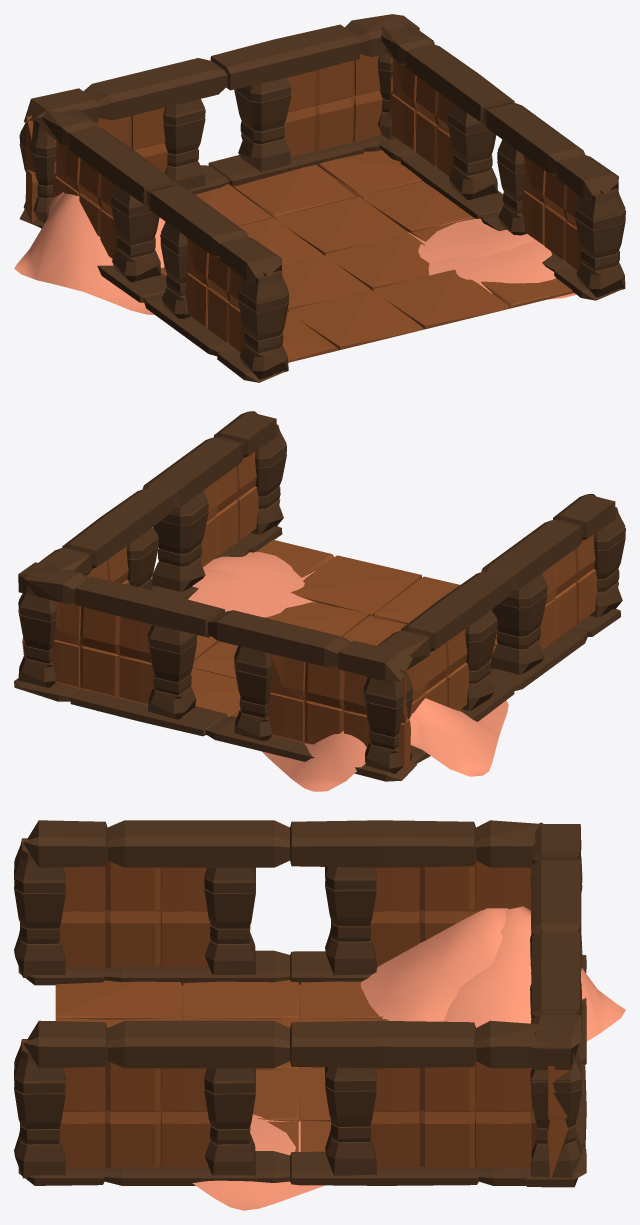
The model's file is AllRooms.fbx.
3 renders of one model, top to bottom at view 1: azimuth 30°, elevation 25°; view 2: azimuth 150°, elevation 25°; view 3: azimuth 270°, elevation 25°, orthographic. The views are drawn at different scales.
Parts seen in each view (by area): view 1: floor.001, TopStone.005, TopStone.001, TopStone.006, WallMain.005, Plane.003, WallMain.002, Pillar.001, Pillar.004, WallMain.001, WallMain.006, Pillar.024 (+14 smaller); view 2: floor.001, TopStone.005, TopStone.006, TopStone.001, WallMain.005, WallMain.004, wall.005, Plane.003, WallMain.001, WallMain.006, Pillar.029, Pillar.003 (+15 smaller); view 3: TopStone.001, TopStone.006, floor.001, WallMain.002, WallMain.001, WallMain.006, TopStone.005, WallMain.007, wall.001, Plane.003, Sand.003, wall.006 (+10 smaller).
Boxes of the visible parts, x1,y1,x2,y2 form: floor.001: (161,150,573,362); TopStone.005: (24,14,419,131); TopStone.001: (381,22,618,200); TopStone.006: (40,108,281,282); WallMain.005: (284,54,382,156); Plane.003: (14,193,165,314); WallMain.002: (388,56,454,176); Pillar.001: (238,270,288,379); Pillar.004: (575,188,625,297); WallMain.001: (522,155,612,292); WallMain.006: (185,237,275,374); Pillar.024: (234,78,291,172); floor.001: (191,539,497,716); TopStone.005: (18,562,412,681); TopStone.006: (377,494,615,669); TopStone.001: (31,411,276,575); WallMain.005: (22,593,154,705); WallMain.004: (268,653,410,769); wall.005: (14,678,416,781); Plane.003: (410,698,508,776); WallMain.001: (201,452,258,566); WallMain.006: (540,534,597,649); Pillar.029: (491,573,547,674); Pillar.003: (152,491,208,591); TopStone.001: (23,1020,551,1068); TopStone.006: (23,820,541,867); floor.001: (55,980,388,1151); WallMain.002: (370,1061,536,1168); WallMain.001: (22,1040,211,1168); WallMain.006: (22,839,211,968); TopStone.005: (531,822,581,1069); WallMain.007: (370,860,530,966); wall.001: (18,1151,556,1185); Plane.003: (360,908,508,1021); Sand.003: (443,906,625,1041); wall.006: (18,950,377,985).
Size of the model in its own units: 5402 by 1456 by 5064.
